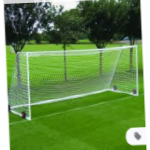goals: (10, 44, 140, 121)
